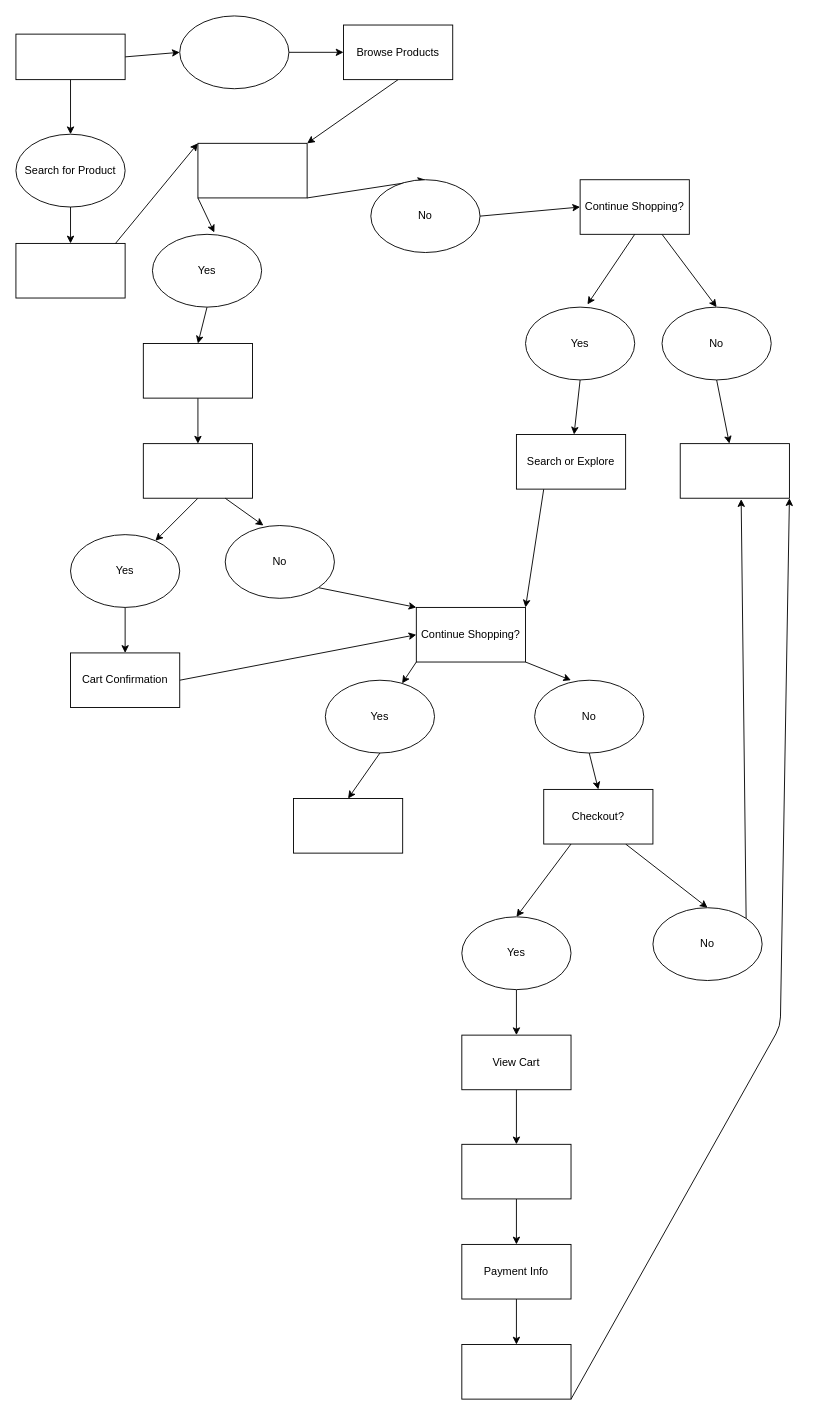
Image size: 813x1422. Some labels were removed from this diagram. The shapes that lost their labels are listed below. From the top down, each one's centre as x and y in pixels, then its label:
point (70, 56): Enter Website
point (234, 52): Explore Home
point (252, 170): View Product
point (70, 270): Enter Search
point (197, 370): Product Page
point (197, 470): Add to Cart?
point (734, 470): Leave Site
point (348, 825): Return to Search Or Explore
point (516, 1171): View Payment info
point (516, 1371): Order Confirmation + Email
